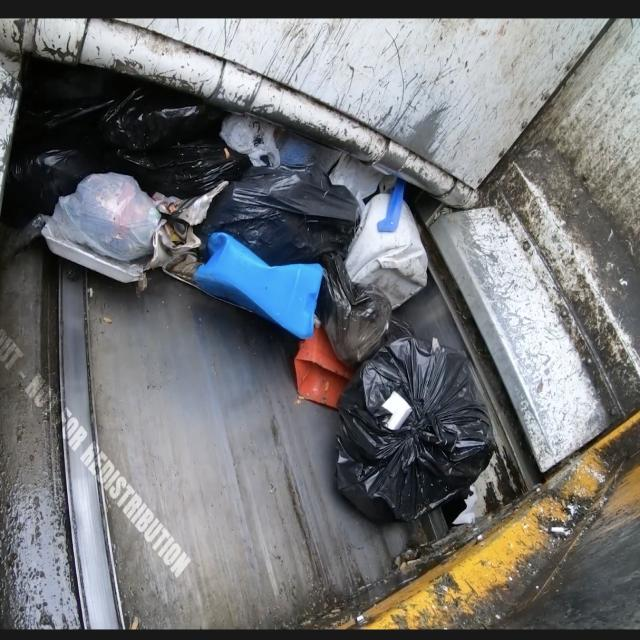bag: (326, 321, 518, 579), (211, 125, 362, 277), (34, 150, 200, 280)
plastic: (204, 235, 354, 410)
